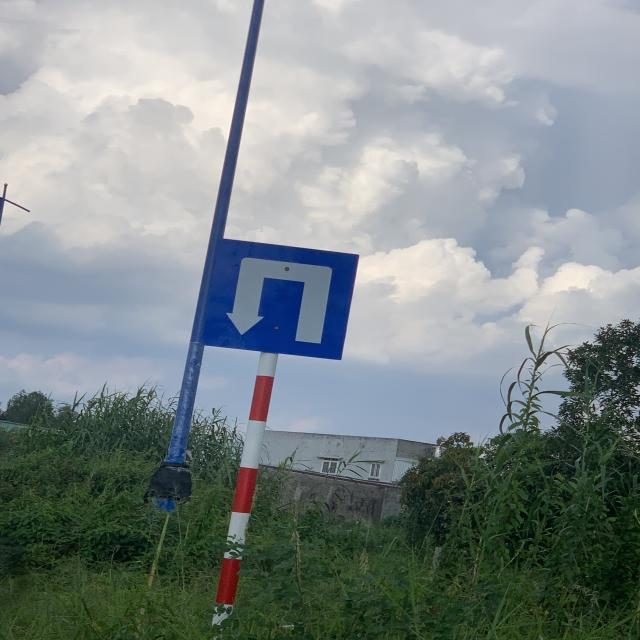Den_Giao_Thong: (195, 234, 363, 363)
